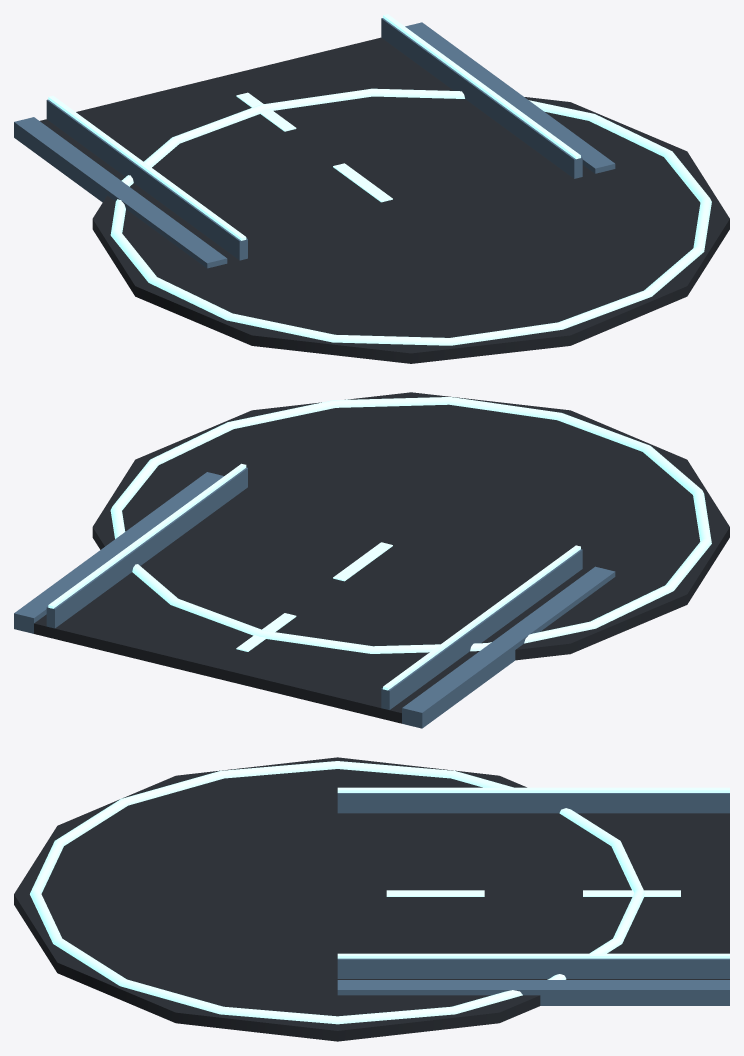
The model's file is road_future_dead_end.glb.
3 views of the same model, one above another, from view 1: azimuth 30°, elevation 25°; view 2: azimuth 150°, elevation 25°; view 3: azimuth 270°, elevation 25° (orthographic).
Visible parts, largest first — view 1: body; view 2: body; view 3: body.
Part boxes in pixels (left/top/right/bottom): body: left=14, top=14, right=729, bottom=363; body: left=14, top=392, right=729, bottom=728; body: left=14, top=757, right=729, bottom=1041.
Size of what is drawn, in the model's own units: 6.6 by 0.37 by 7.3.
